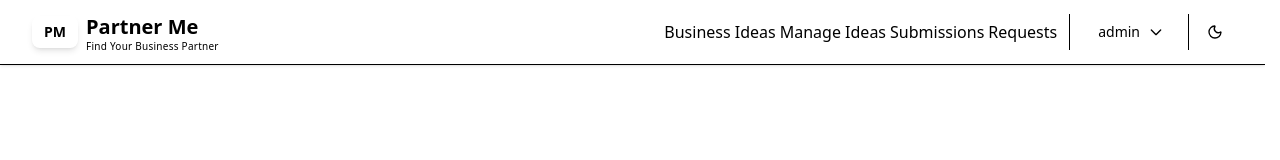
Header Component - Authenticated Admin › should render logout button when authenticated
Click the button "admin" at (1131, 32), box x1=1086 y1=14 x2=1176 y2=50
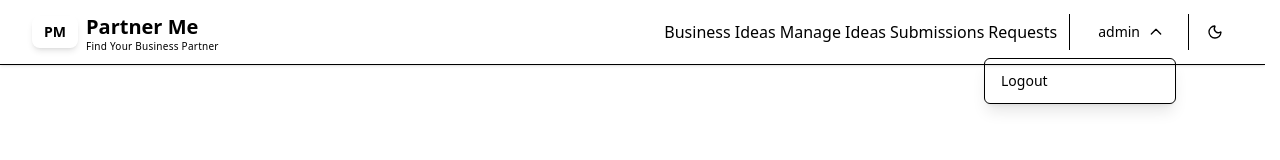
Expected: the button "Logout" is shown, x1=985 y1=63 x2=1175 y2=99
